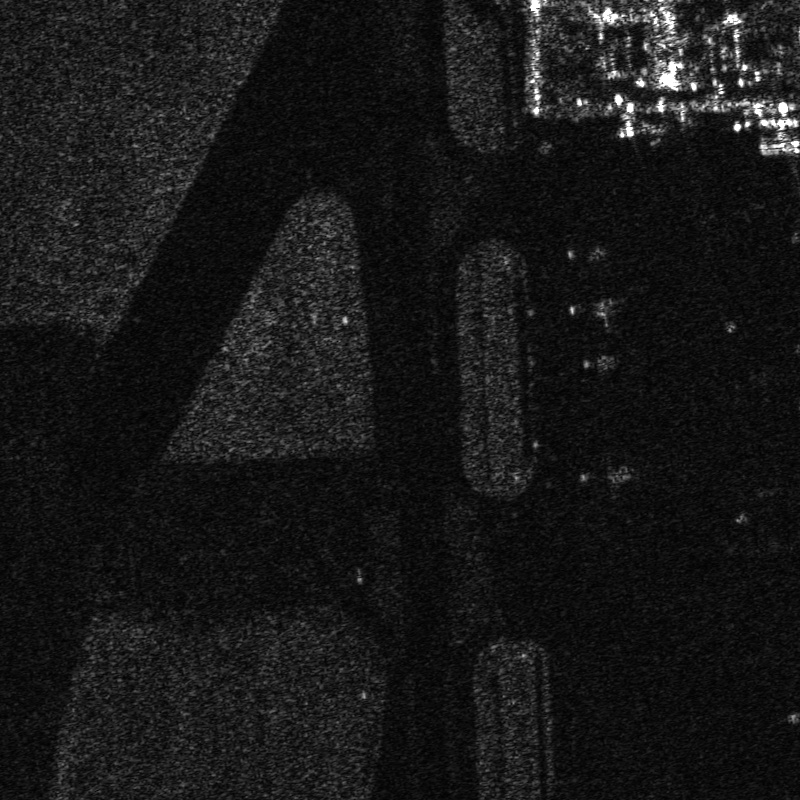ARJ21: (554, 288, 635, 339), (571, 342, 628, 383)
other: (574, 451, 643, 503), (562, 237, 618, 267)
